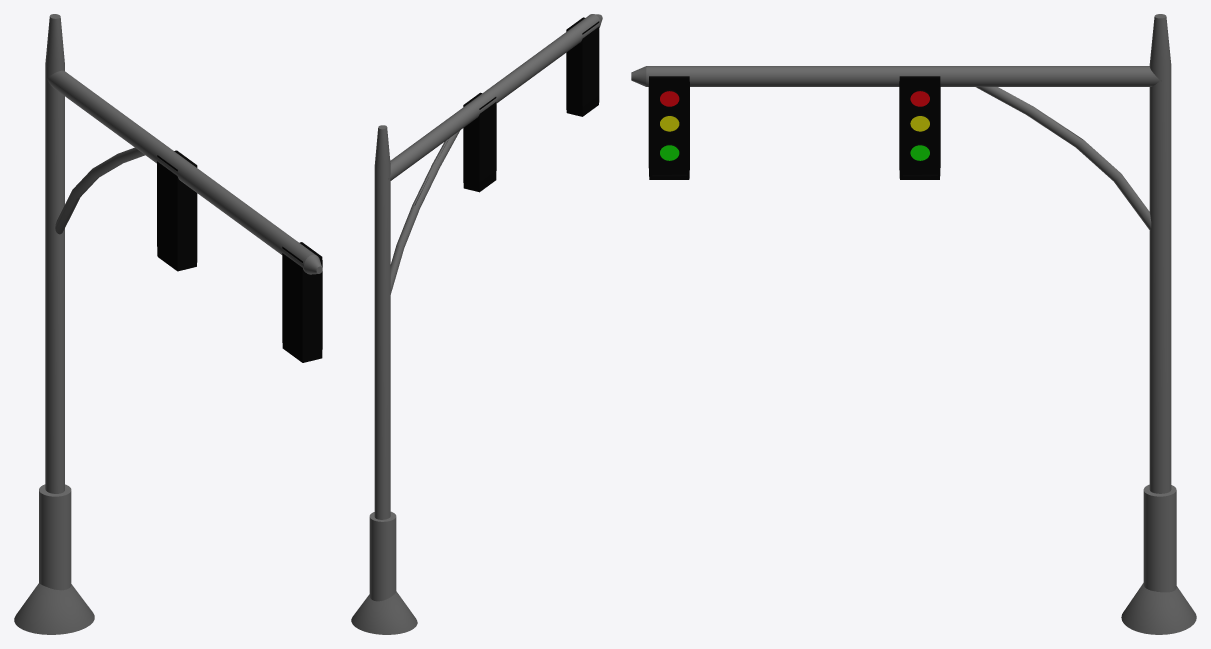
The model's file is traffic lights.fbx.
3 renders of one model, left to right at view 1: azimuth 30°, elevation 25°; view 2: azimuth 150°, elevation 25°; view 3: azimuth 270°, elevation 25°, orthographic. The views are drawn at different scales.
Visible parts, largest first — view 1: Cylinder.001, Cylinder, Cube.002, Cube.001, Cylinder.009, Cone, Cylinder.003; view 2: Cylinder.001, Cylinder, Cube.002, Cube.001, Cylinder.009, Cone, Cylinder.003; view 3: Cylinder.001, Cylinder, Cube.001, Cube.002, Cylinder.009, Cone, Cylinder.003.
Part boxes in pixels (x1,y1,x2,y2): Cylinder.001: (45, 14, 64, 493); Cylinder: (46, 70, 322, 274); Cube.002: (282, 242, 322, 362); Cube.001: (157, 150, 197, 271); Cylinder.009: (39, 484, 71, 590); Cone: (14, 583, 94, 634); Cylinder.003: (55, 147, 144, 234); Cylinder.001: (374, 125, 390, 519); Cylinder: (388, 14, 602, 180); Cube.002: (566, 17, 599, 116); Cube.001: (463, 92, 496, 192); Cylinder.009: (369, 511, 396, 601); Cone: (351, 591, 417, 634); Cylinder.003: (390, 130, 460, 294); Cylinder.001: (1149, 14, 1171, 493); Cylinder: (631, 66, 1161, 86); Cube.001: (899, 76, 940, 179); Cube.002: (648, 76, 689, 179); Cylinder.009: (1143, 484, 1176, 592); Cone: (1121, 583, 1196, 634); Cylinder.003: (976, 87, 1151, 230).
Size of the model in its own units: 367 by 2945 by 2508.
